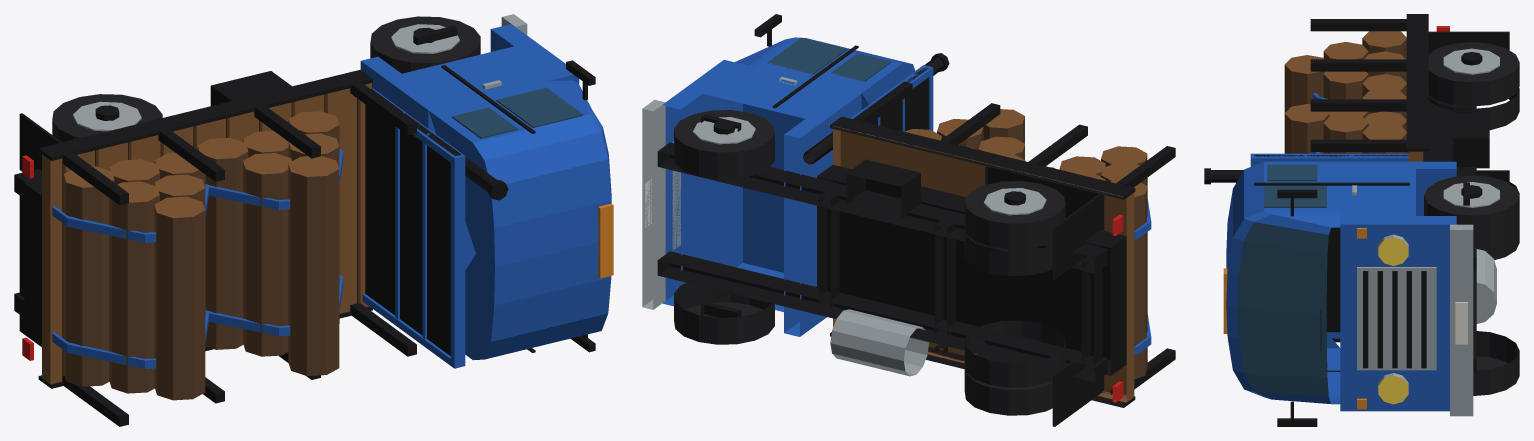
Rendered from loaded.glb.
3 views of the same model, side by side, from view 1: azimuth 30°, elevation 25°; view 2: azimuth 150°, elevation 25°; view 3: azimuth 270°, elevation 25° (orthographic). The views are drawn at different scales.
Parts seen in each view (by area): view 1: loaded_cab_upper, loaded_headboard, loaded_deck, loaded_log120, loaded_log020, loaded_log000, loaded_log010, loaded_log110, loaded_log100, loaded_side1_-3.60_1.67_black, loaded_cab_arch, loaded_front1 (+32 smaller); view 2: loaded_subframe, loaded_cab_arch, loaded_chassis-1, loaded_cab_front, loaded_deck, loaded_cab_back, loaded_chassis1, loaded_front1, loaded_rear_out1, loaded_fuel_tank, loaded_bumper, loaded_side1_-3.60_1.67_black (+31 smaller); view 3: loaded_cab_upper, loaded_cab_front, loaded_grille, loaded_rear_out1, loaded_front1, loaded_bumper, loaded_cab_arch, loaded_side1_-3.60_1.67_black, loaded_front-1, loaded_battery_box, loaded_cab_back, loaded_headboard (+37 smaller).
Part boxes in pixels (x1,y1,x2,y2): loaded_cab_upper: [428, 80, 611, 360]; loaded_headboard: [365, 89, 461, 355]; loaded_deck: [42, 83, 371, 384]; loaded_log120: [288, 155, 339, 375]; loaded_log020: [154, 196, 205, 400]; loaded_log000: [63, 166, 114, 386]; loaded_log010: [109, 181, 159, 393]; loaded_log110: [243, 153, 291, 356]; loaded_log100: [197, 137, 248, 349]; loaded_side1_-3.60_1.67_black: [38, 70, 372, 160]; loaded_cab_arch: [402, 46, 558, 269]; loaded_front1: [370, 16, 480, 73]; loaded_subframe: [817, 164, 1126, 375]; loaded_cab_arch: [703, 64, 845, 311]; loaded_chassis-1: [657, 251, 1107, 382]; loaded_cab_front: [662, 60, 742, 306]; loaded_deck: [833, 126, 1134, 402]; loaded_cab_back: [784, 89, 861, 336]; loaded_chassis1: [657, 142, 1107, 273]; loaded_front1: [674, 110, 774, 179]; loaded_rear_out1: [964, 181, 1065, 249]; loaded_fuel_tank: [830, 309, 929, 376]; loaded_bumper: [642, 99, 665, 309]; loaded_side1_-3.60_1.67_black: [830, 116, 1135, 199]; loaded_cab_upper: [1226, 161, 1340, 404]; loaded_cab_front: [1340, 216, 1456, 411]; loaded_grille: [1357, 267, 1436, 370]; loaded_rear_out1: [1428, 42, 1519, 106]; loaded_front1: [1424, 175, 1519, 240]; loaded_bumper: [1450, 224, 1473, 416]; loaded_cab_arch: [1340, 169, 1415, 215]; loaded_side1_-3.60_1.67_black: [1406, 14, 1428, 151]; loaded_front-1: [1473, 331, 1519, 395]; loaded_battery_box: [1453, 113, 1489, 168]; loaded_cab_back: [1340, 161, 1456, 215]; loaded_headboard: [1254, 155, 1408, 332].
Bounding box in the file's own units: 7.56 × 3.9 × 4.75.
